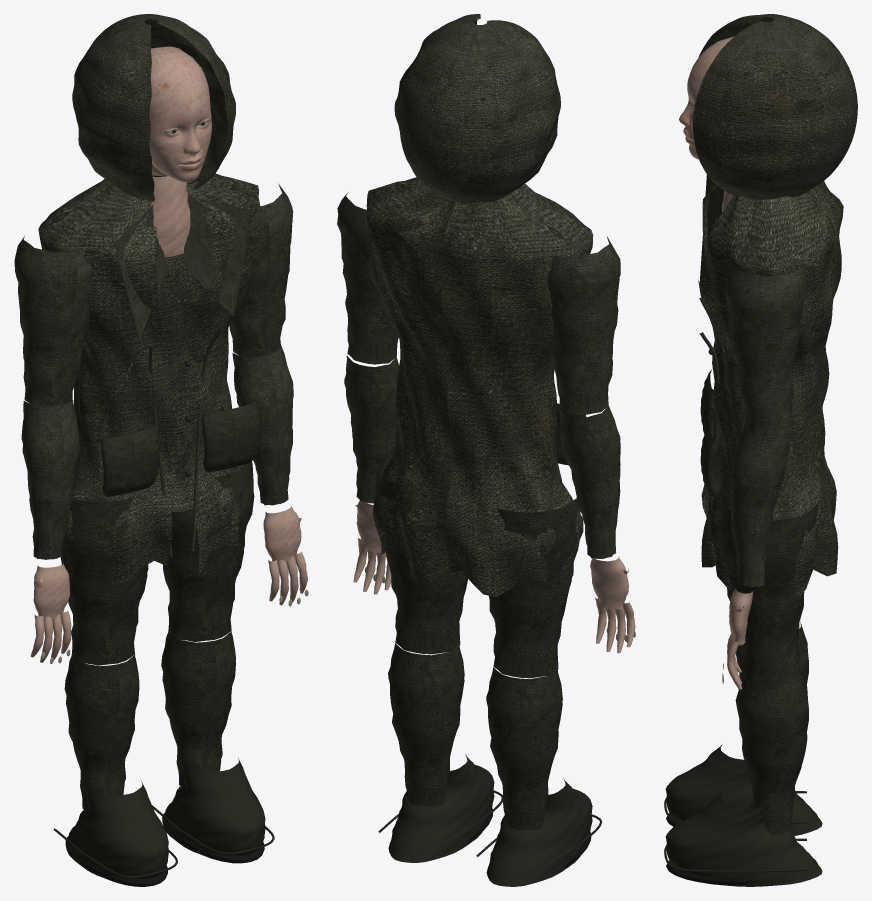
Rendered from double.glb.
The picture shows the model from 3 angles, left to right: view 1: azimuth 30°, elevation 25°; view 2: azimuth 150°, elevation 25°; view 3: azimuth 270°, elevation 25°; orthographic projection.
Visible parts, largest first — view 1: sculpt (×8), tailored-coat, ragged-hood, boots-details (×2), pants-double-details, facial-sculpt, cloth-double-details, skin-double-details (×2), neck, sole-details (×2); view 2: tailored-coat, sculpt (×8), ragged-hood, boots-details (×2), skin-double-details (×2); view 3: sculpt (×5), tailored-coat, ragged-hood, boots-details (×2), pants-double-details, skin-double-details, facial-sculpt, cloth-double-details, sole-details.
Part boxes in pixels (x1,y1,x2,y2): sculpt (×8): (14,183,293,810); tailored-coat: (38,173,260,585); ragged-hood: (72,14,235,201); boots-details (×2): (53,758,274,878); pants-double-details: (101,253,260,496); facial-sculpt: (149,46,211,182); cloth-double-details: (114,196,252,556); skin-double-details (×2): (30,506,307,662); neck: (150,176,190,257); sole-details (×2): (78,837,264,886); tailored-coat: (366,177,593,596); sculpt (×8): (337,193,620,830); ragged-hood: (394,14,560,203); boots-details (×2): (378,754,601,886); skin-double-details (×2): (353,501,635,653); sculpt (×5): (720,264,818,834); tailored-coat: (698,181,843,599); ragged-hood: (693,14,857,199); boots-details (×2): (664,744,822,886); pants-double-details: (700,339,724,499); skin-double-details: (727,588,753,689); facial-sculpt: (679,36,733,159); cloth-double-details: (699,175,723,511); sole-details: (666,860,758,884).
Size of the model in its own units: 0.6505 by 1.88 by 0.3957.
13 materials, 5 textured.
